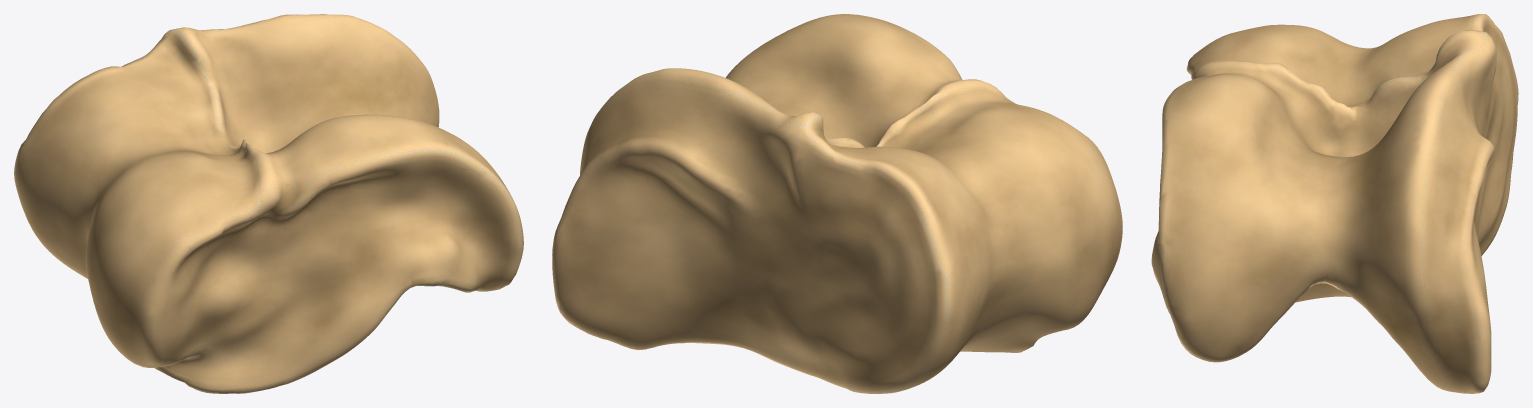
Rendered from asyq.glb.
The picture shows the model from 3 angles, left to right: view 1: azimuth 30°, elevation 25°; view 2: azimuth 150°, elevation 25°; view 3: azimuth 270°, elevation 25°; orthographic projection. The views are drawn at different scales.
Visible parts, largest first — view 1: asyq; view 2: asyq; view 3: asyq.
Part boxes in pixels (left/top/right/bottom): asyq: left=14, top=14, right=523, bottom=393; asyq: left=552, top=14, right=1122, bottom=393; asyq: left=1151, top=14, right=1518, bottom=393.
Bounding box in the file's own units: 1.45 × 0.9323 × 1.07.
1 material, 1 textured.
